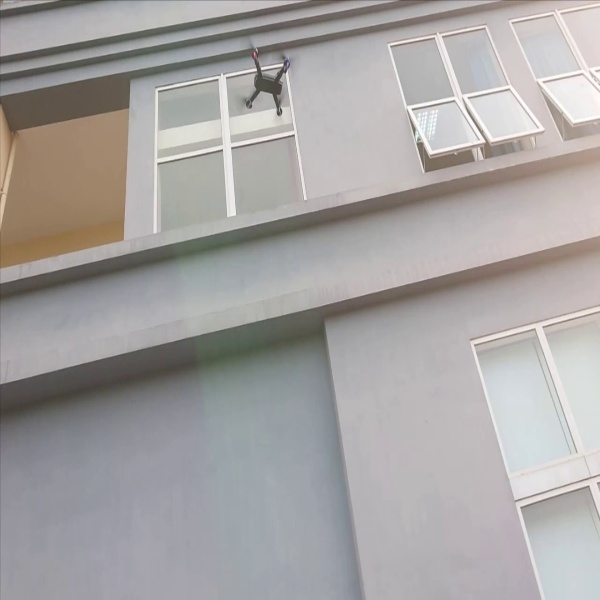drone: (231, 31, 299, 119)
